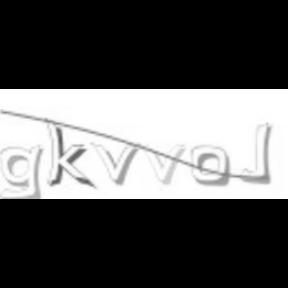J: (238, 120, 276, 186)
g: (0, 144, 46, 199)
k: (42, 115, 94, 188)
o: (188, 144, 234, 186)
v: (89, 138, 141, 186), (135, 138, 187, 186)
